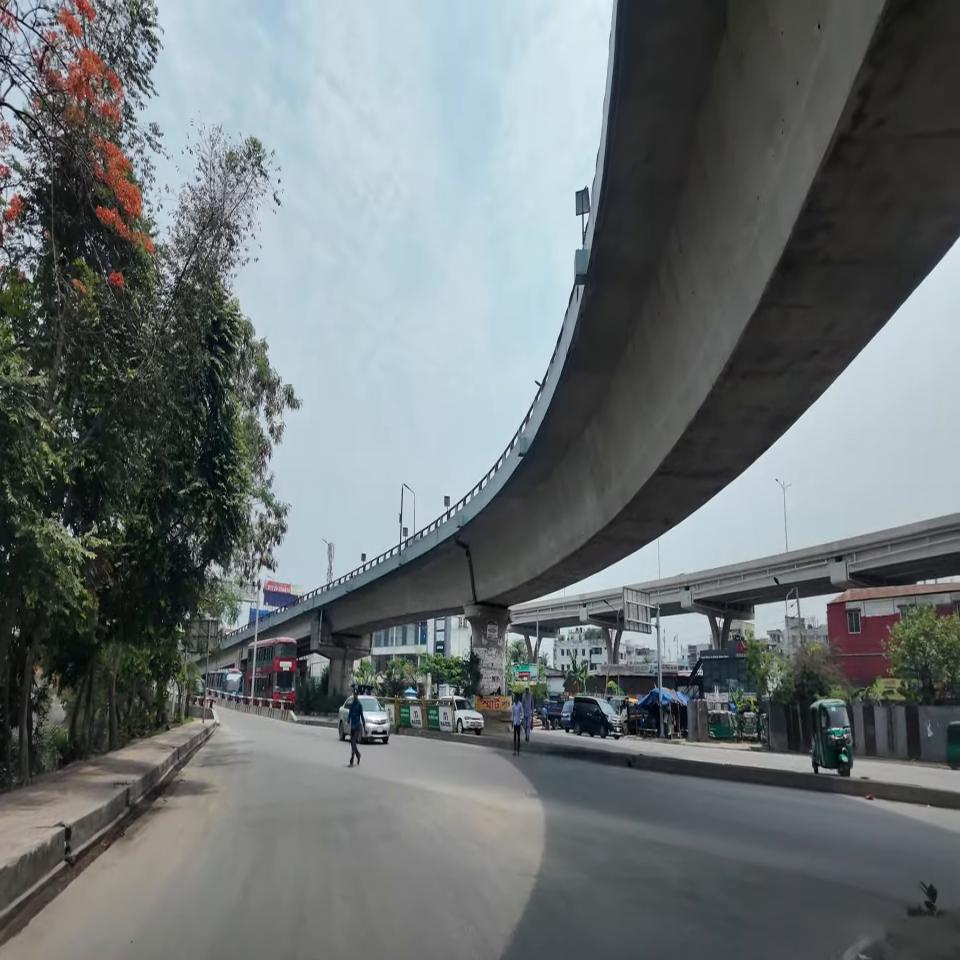person: (344, 690, 378, 767)
